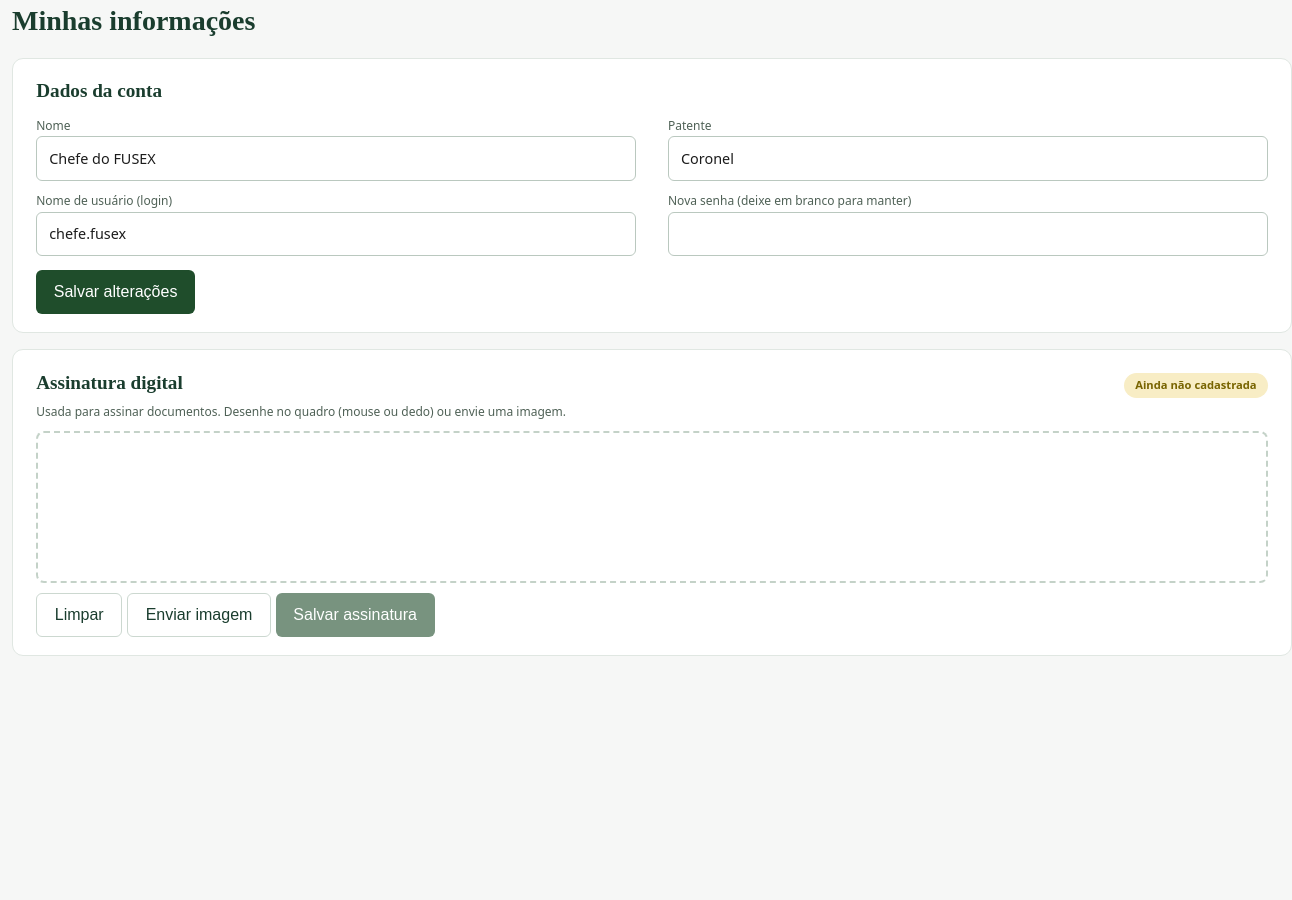
Test: Minhas informações do chefe › salvar com sucesso mostra mensagem e limpa a senha digitada
The width and height of the screenshot is (1292, 900).
Replace the text in the field labelled "Patente" with "General": (968, 159) [668,136,1268,181]
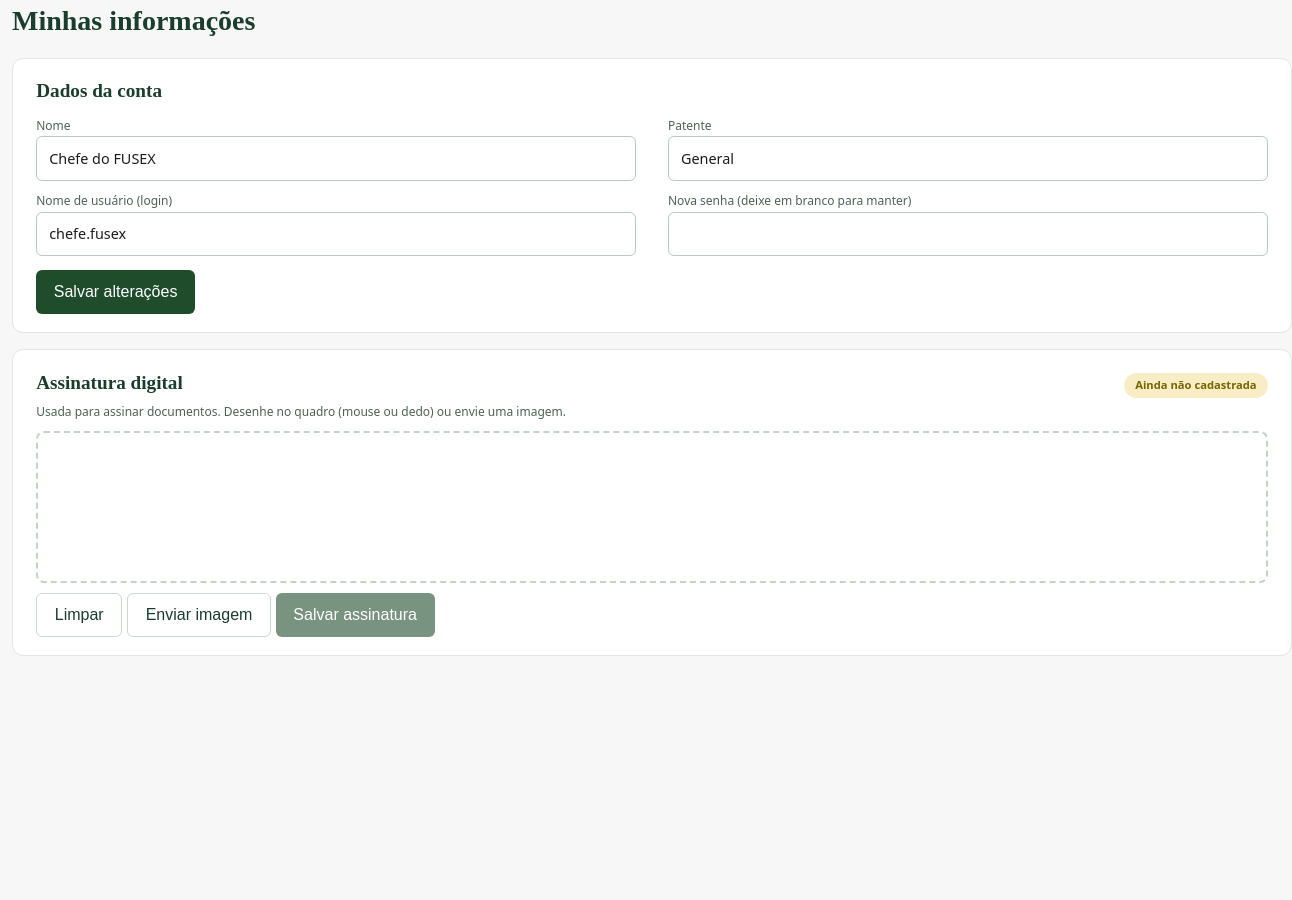
In the password field labelled "Nova senha (deixe em branco para manter)": (968, 234) [668,212,1268,256], type "nova12345"
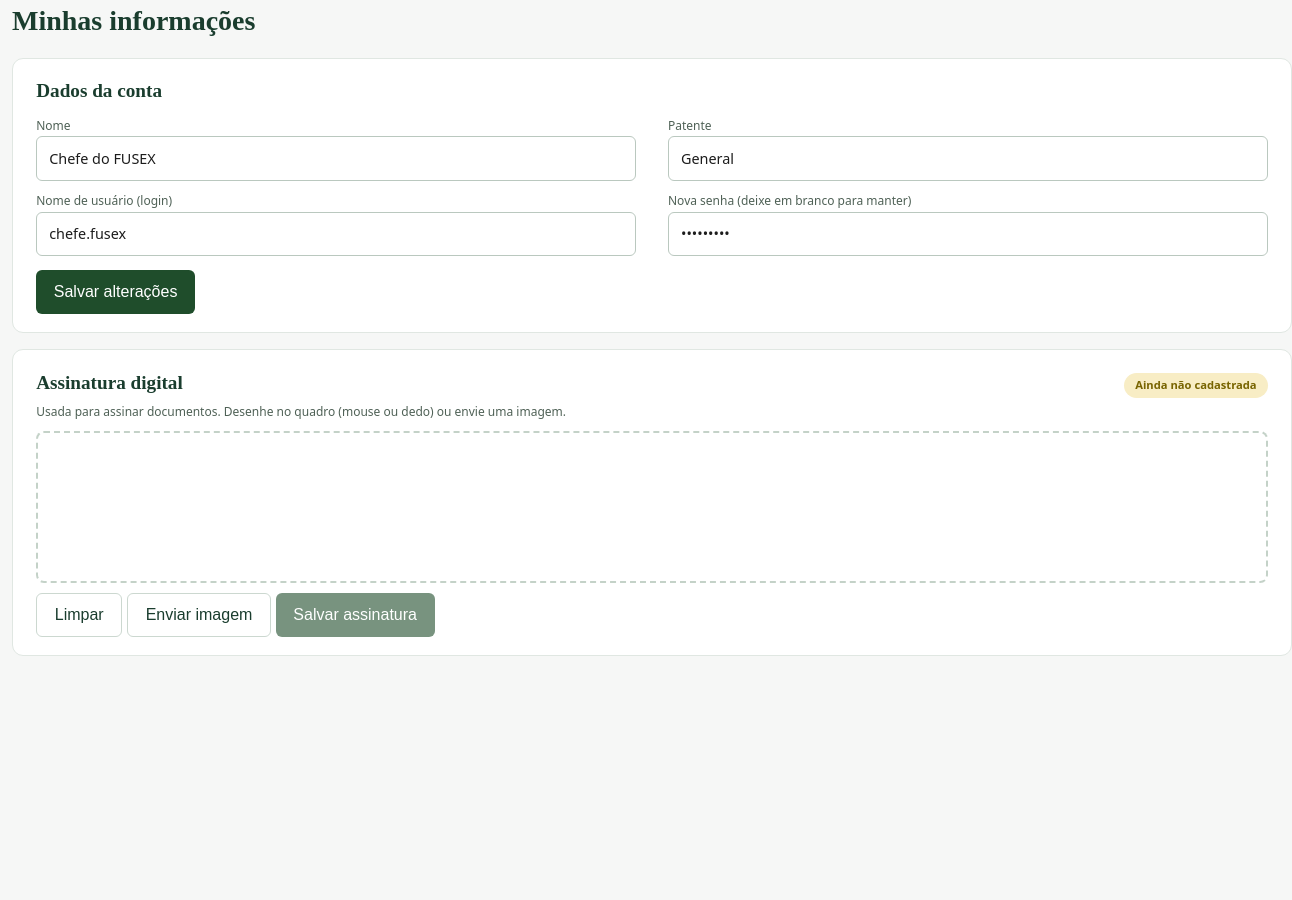
Click the button "Salvar alterações": (116, 292) [36,270,195,314]
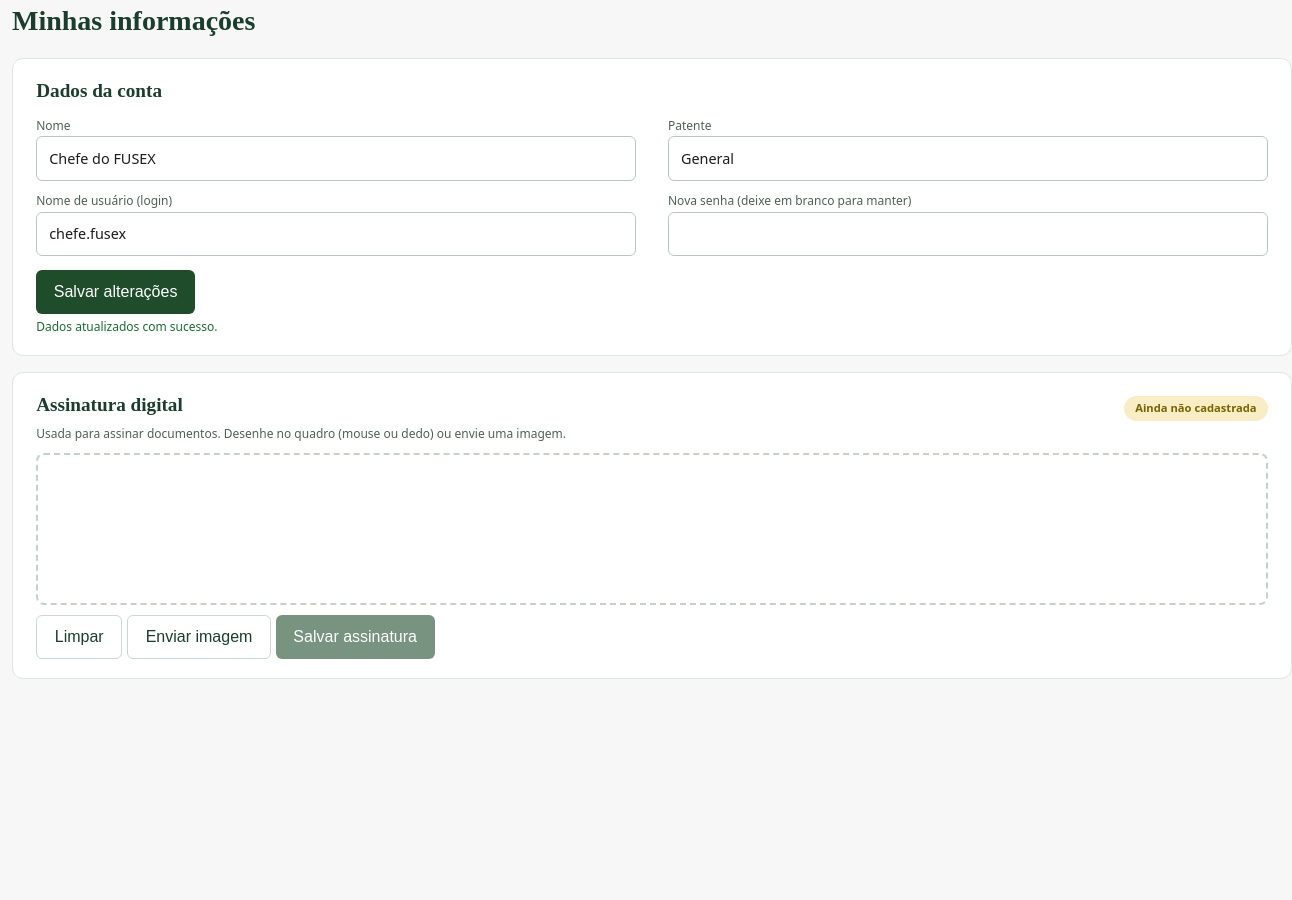
expect the text "Dados atualizados com sucesso." is shown: met, box [36,318,218,336]
expect the password field labelled "Nova senha (deixe em branco para manter)" is empty: met, box [668,212,1268,256]
